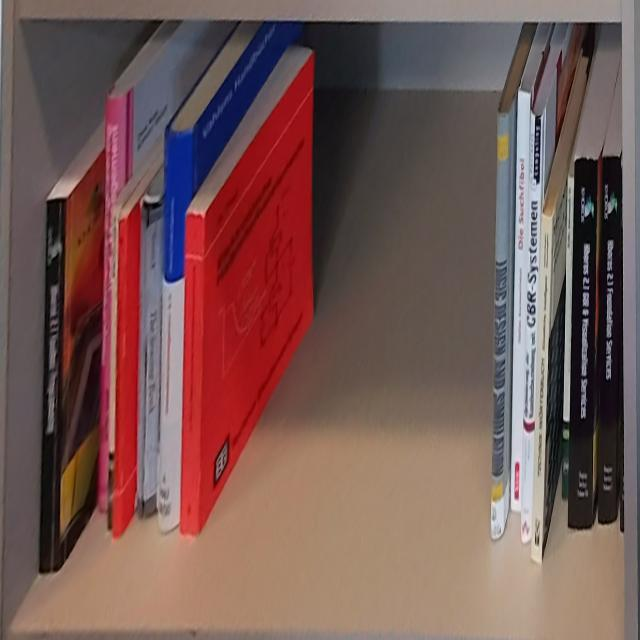Book Spine: (158, 129, 193, 531), (568, 158, 598, 529), (520, 111, 545, 546), (40, 198, 67, 573), (510, 90, 530, 515), (598, 156, 621, 525), (137, 200, 162, 518), (531, 214, 553, 564), (491, 113, 509, 539), (181, 214, 203, 535), (107, 204, 121, 531), (114, 218, 127, 539), (562, 176, 574, 502)
